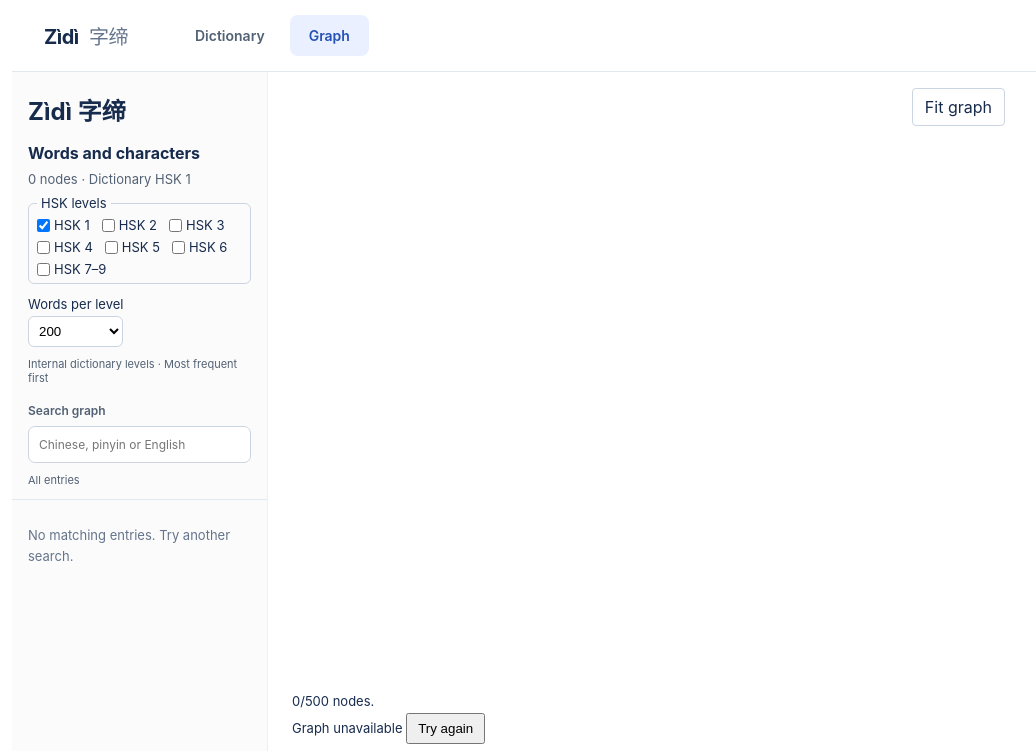
it: offers retry after a graph loading failure
Expected: the message "Graph unavailable Try again" is shown, [292,713,485,744]
Click the button "Try again" at (446, 728), box [406,713,485,744]
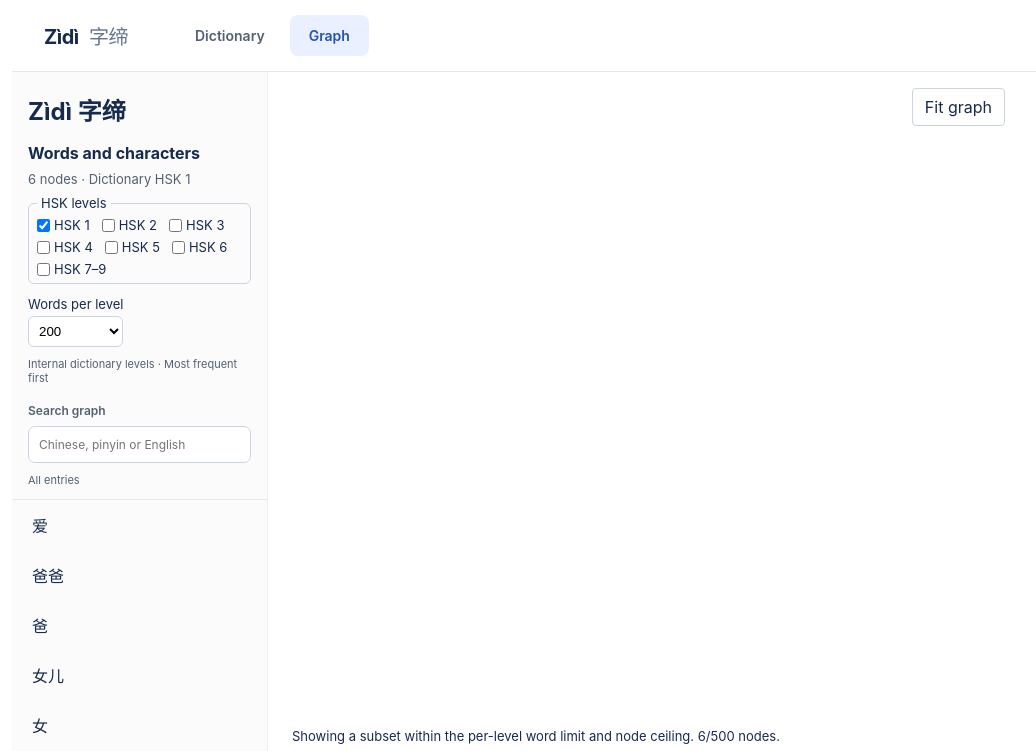
Expected: the button "爱" is shown, [12,500,267,550]
